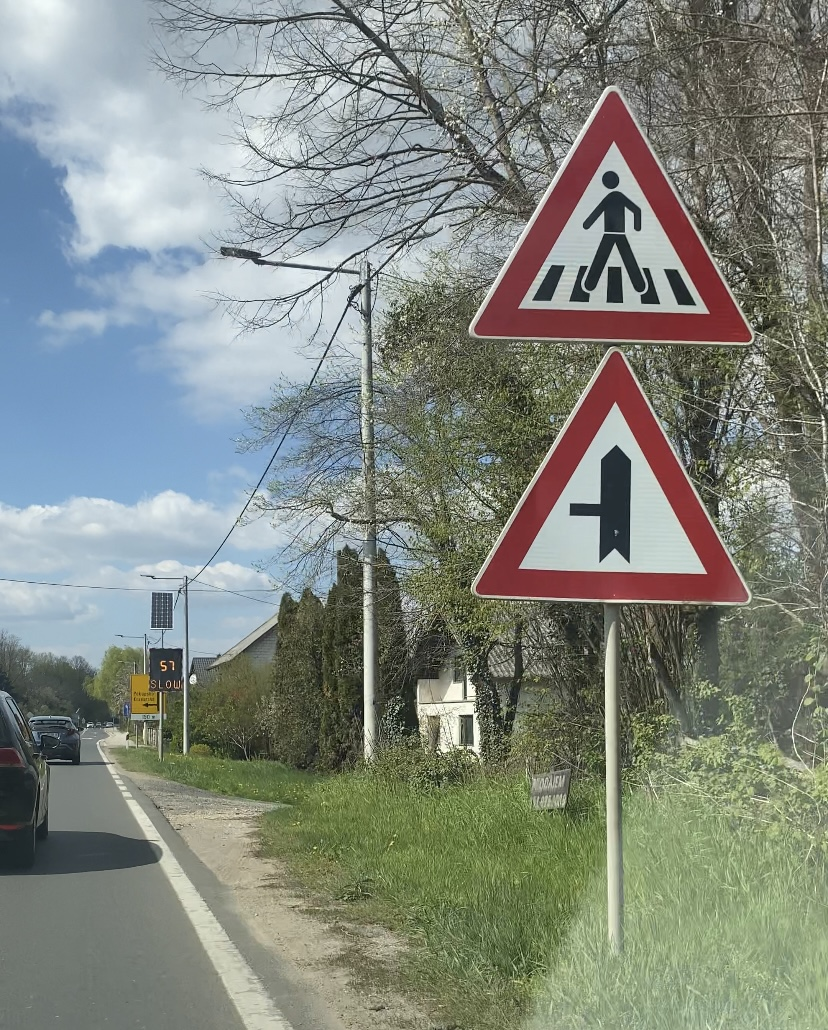Približavanje pješačkom prijelazu: (469, 87, 757, 345)
